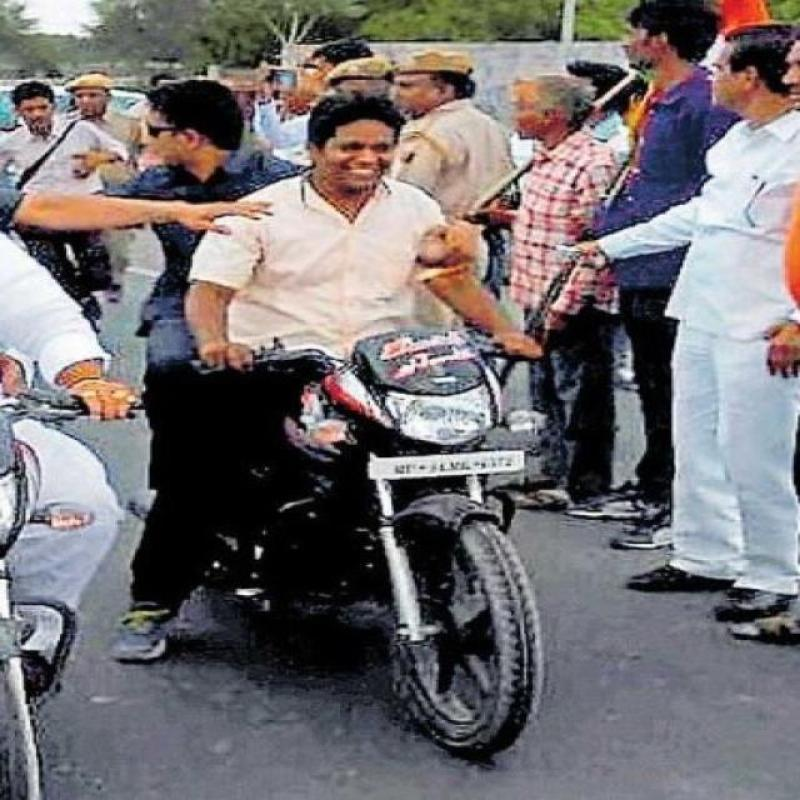nohelmet: (290, 94, 419, 200), (120, 90, 241, 184)
